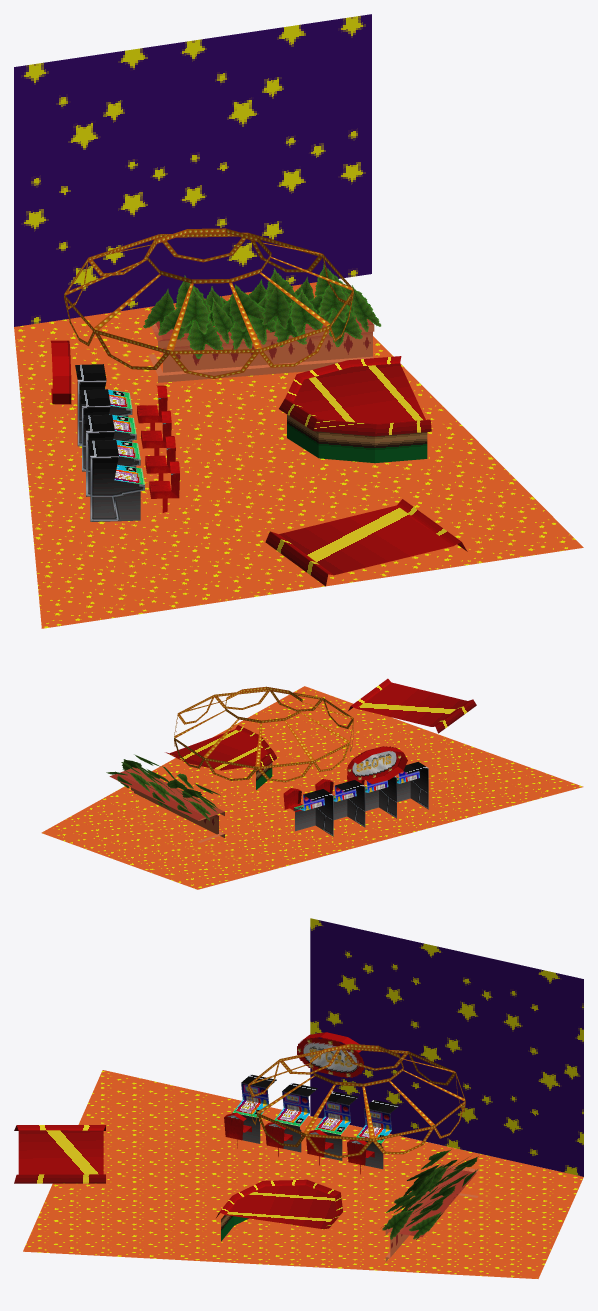
File: casino_back.obj
3 renders of one model, top to bottom at view 1: azimuth 30°, elevation 25°; view 2: azimuth 150°, elevation 25°; view 3: azimuth 270°, elevation 25°, orthographic. The views are drawn at different scales.
Parts seen in each view (by area): view 1: casino_back; view 2: casino_back; view 3: casino_back.
Boxes of the visible parts, box(x1,y1,x2,y2) form: casino_back: box(14, 14, 583, 628); casino_back: box(41, 678, 583, 889); casino_back: box(14, 918, 583, 1278).
Size of the model in its own units: 111 by 44.92 by 117.
10 materials, 10 textured.
